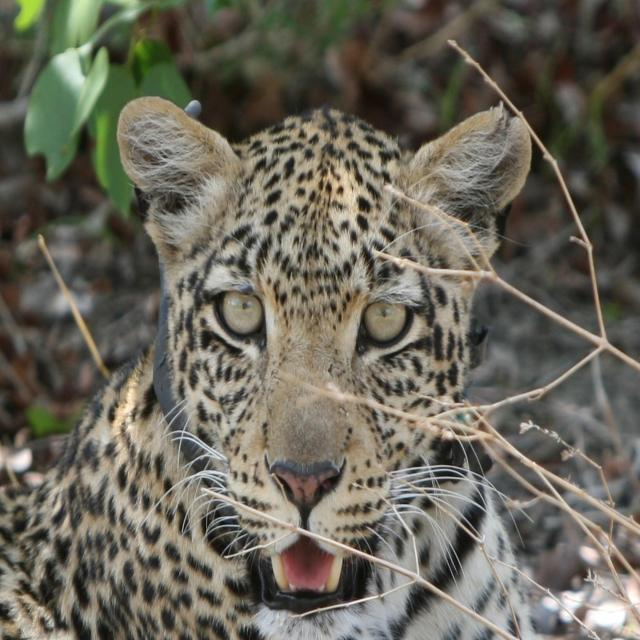Leopard: (0, 83, 640, 640)
